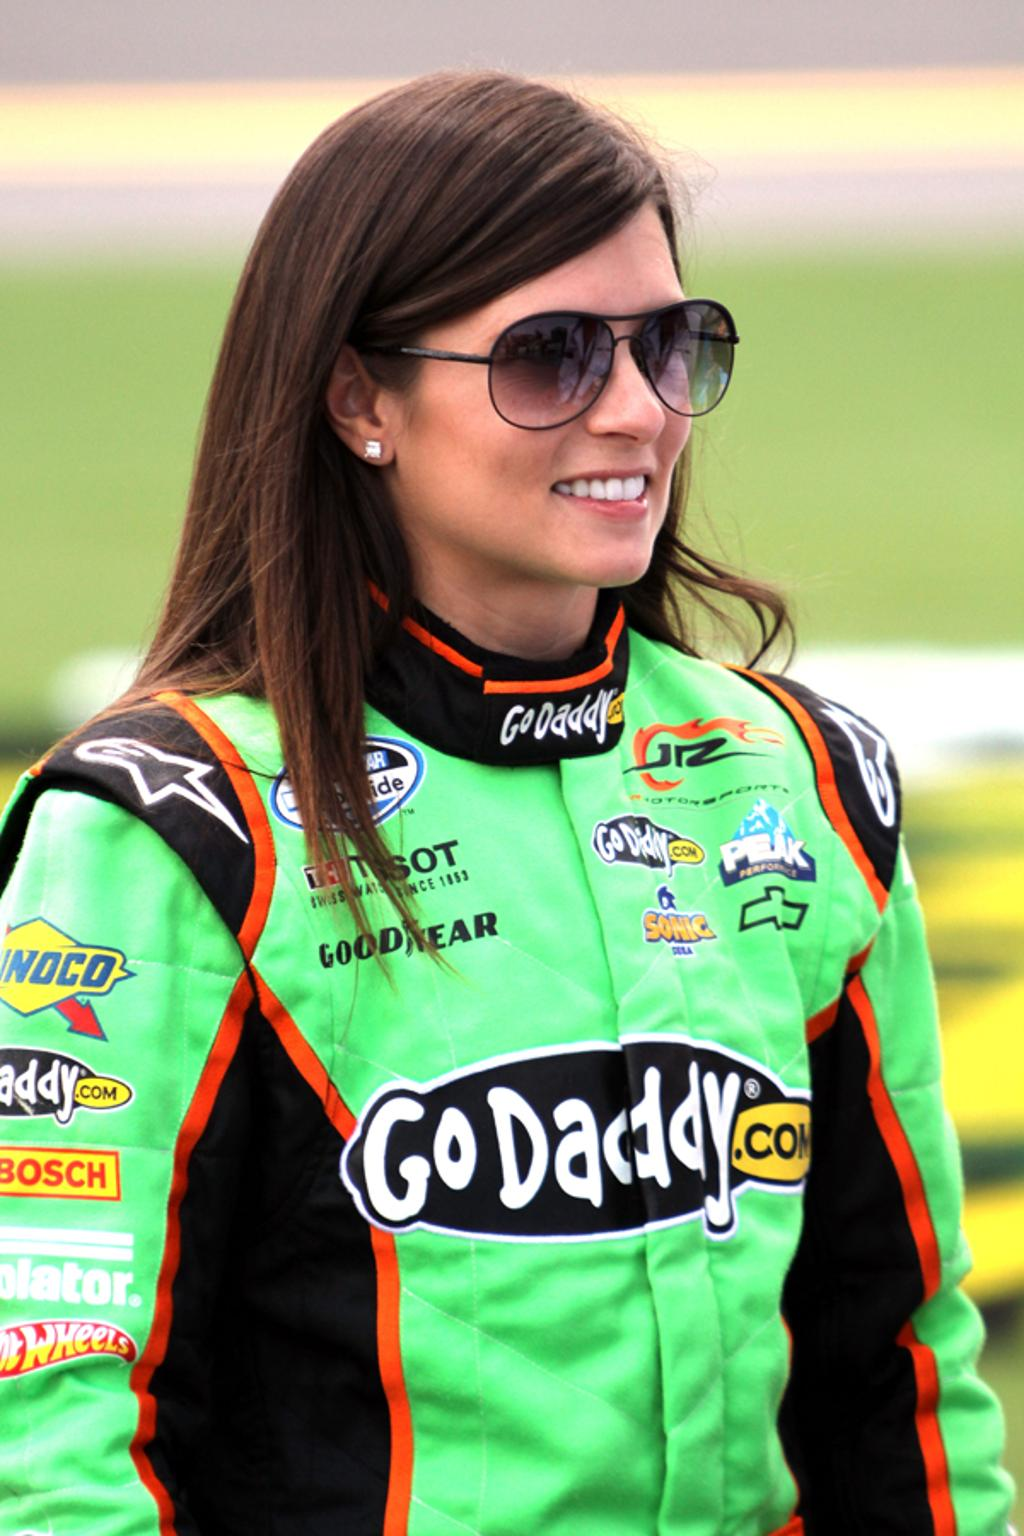face: (393, 183, 696, 588)
